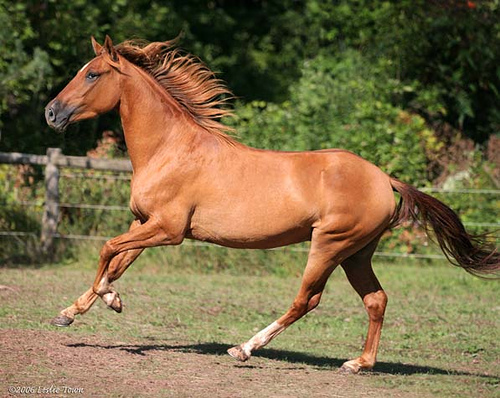horse: (25, 20, 500, 385)
